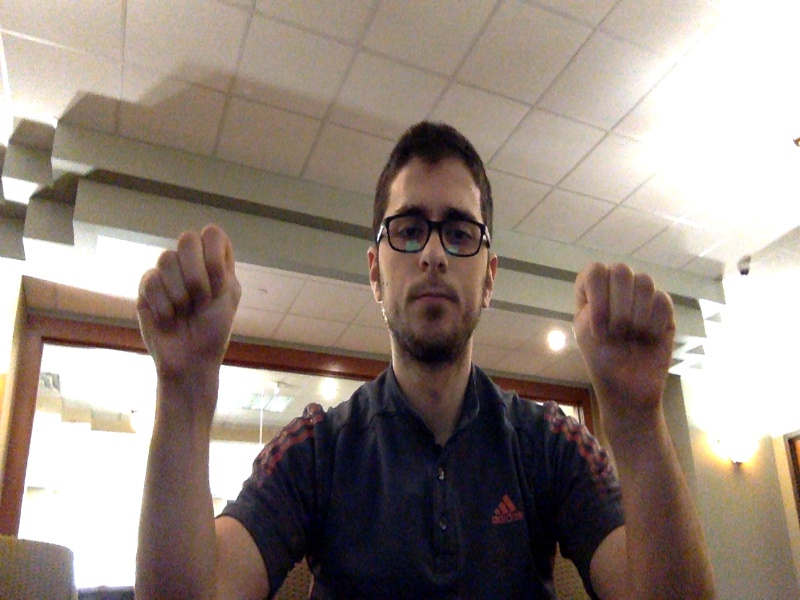0-hand: (137, 222, 239, 373), (573, 263, 677, 409)
